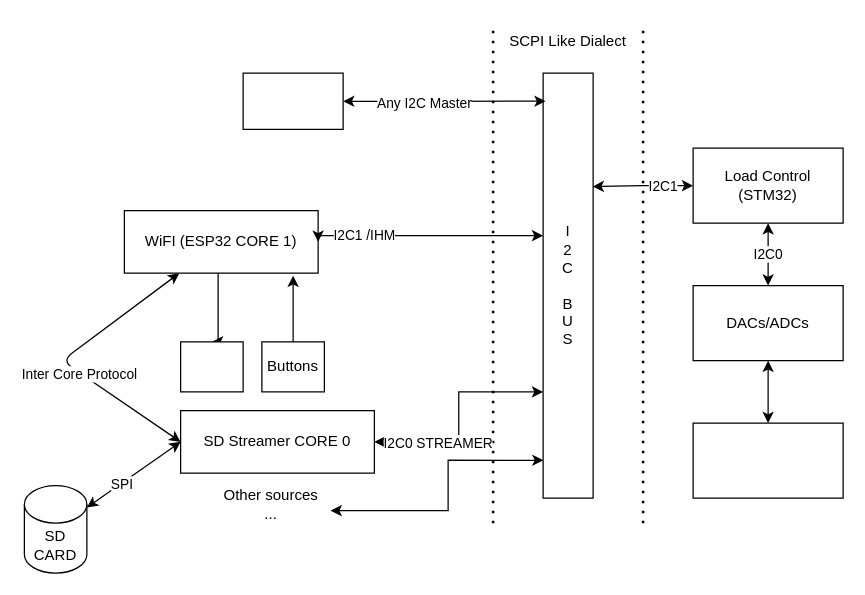
This 865x595 diagram has some shape labels left out. The centre of each missing label's shape, as x and y in pixels:
LCD: the point at 211,366
Load Hardware: the point at 767,460
USB > I2C (Optional): the point at 292,100
